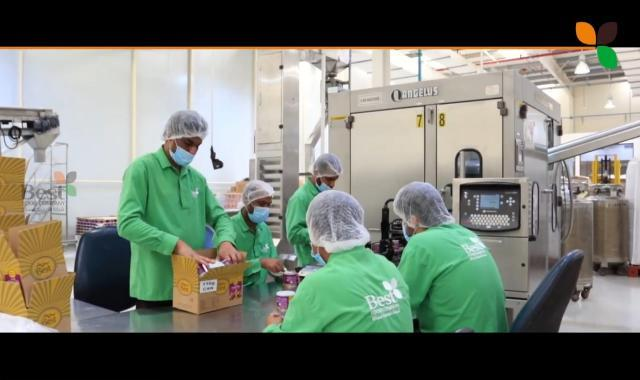Hairnet: (304, 193, 371, 249), (392, 179, 451, 224), (162, 99, 216, 139), (241, 178, 277, 205), (308, 154, 343, 179)
Mask: (166, 147, 197, 166), (245, 208, 272, 224), (309, 252, 328, 268), (401, 226, 416, 241), (312, 181, 329, 191)
No_Apron: (127, 167, 203, 316), (415, 236, 514, 331), (303, 272, 410, 345), (230, 225, 270, 294)
No_Glove: (169, 235, 211, 267), (259, 254, 285, 275), (216, 243, 241, 262), (265, 310, 283, 324)
